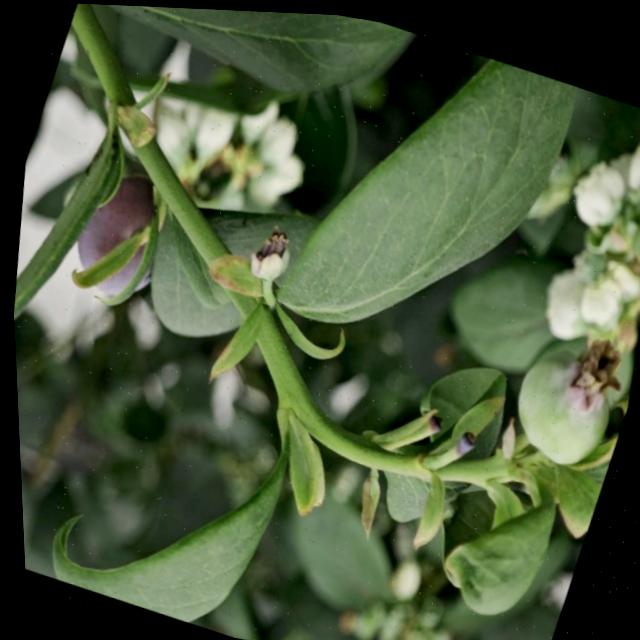Semi-RipeBlueBerry: (53, 158, 185, 314)
UnripeBlueBerry: (495, 327, 636, 475)
